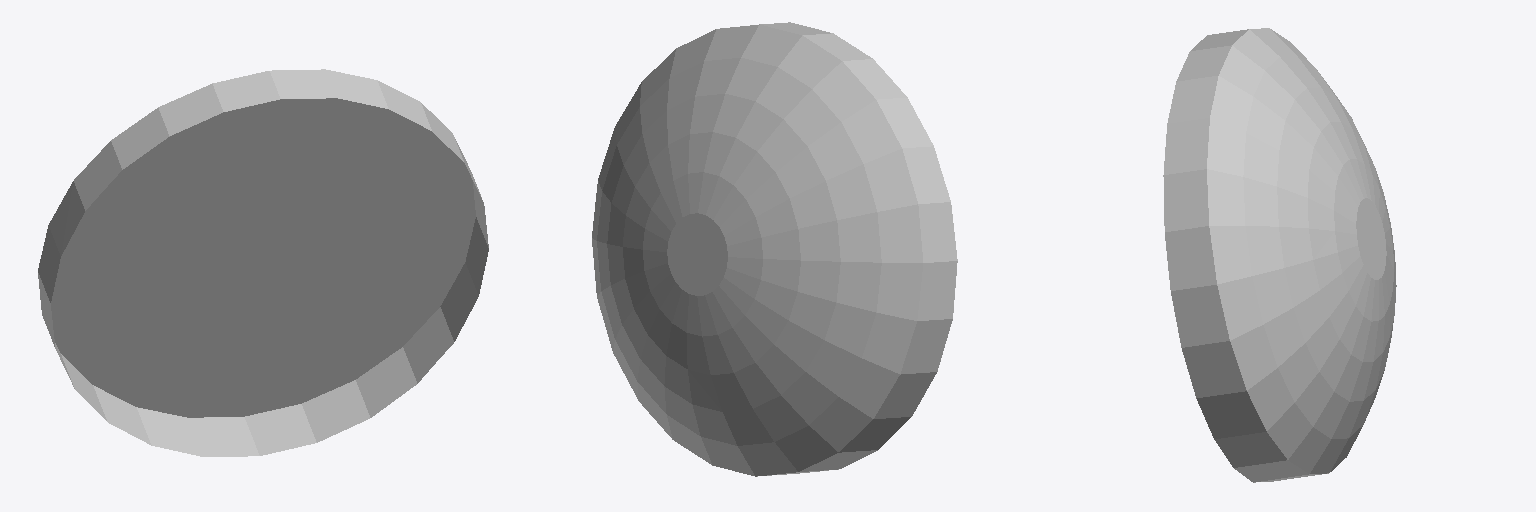
The model's file is original-22.obj.
The picture shows the model from 3 angles: view 1: azimuth 30°, elevation 25°; view 2: azimuth 150°, elevation 25°; view 3: azimuth 270°, elevation 25°; orthographic projection.
Visible parts, largest first — view 1: group_7/ID110#ID110; view 2: group_7/ID110#ID110; view 3: group_7/ID110#ID110.
Part boxes in pixels (x1,y1,x2,y2): group_7/ID110#ID110: (38, 69, 488, 456); group_7/ID110#ID110: (592, 22, 957, 476); group_7/ID110#ID110: (1163, 28, 1396, 482).
Bounding box in the file's own units: 0.0261 × 0.0263 × 0.0135.